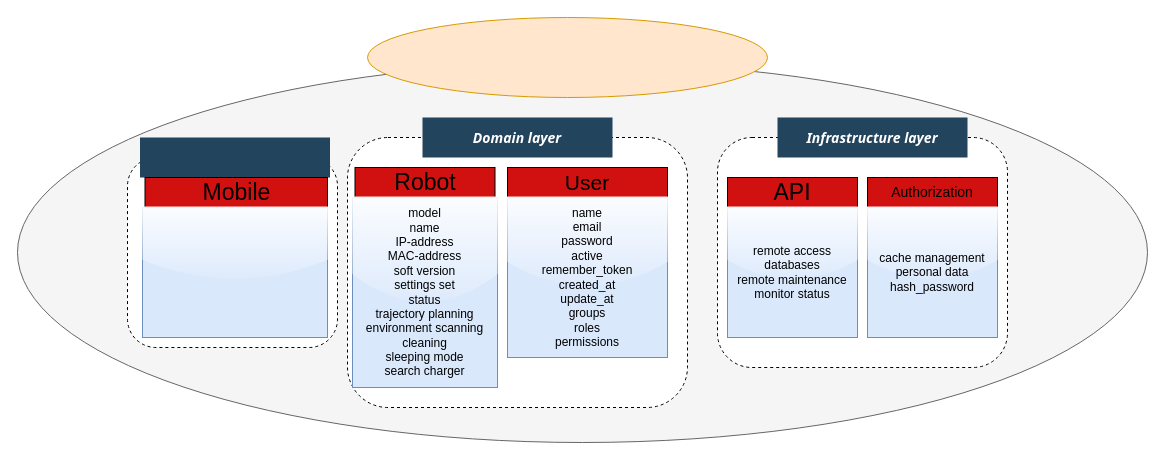
Some shapes in this 1165 by 460 pixel diagram are drawn without their labels. Here are the shapes that lost their labels. From the top down, the box of each, then its label:
(366, 16, 768, 98): Domain-Driven Design
(140, 137, 330, 177): Application layer
(142, 206, 328, 338): login/logout application UI/UX remote control get statistics status monitor
